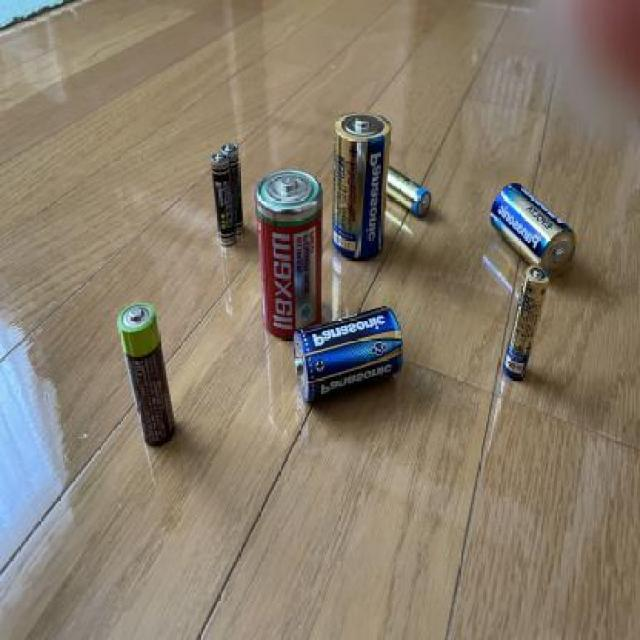AA: (112, 299, 177, 445), (371, 160, 434, 222)
AAA: (499, 263, 550, 386), (220, 140, 245, 236), (211, 151, 233, 248)
